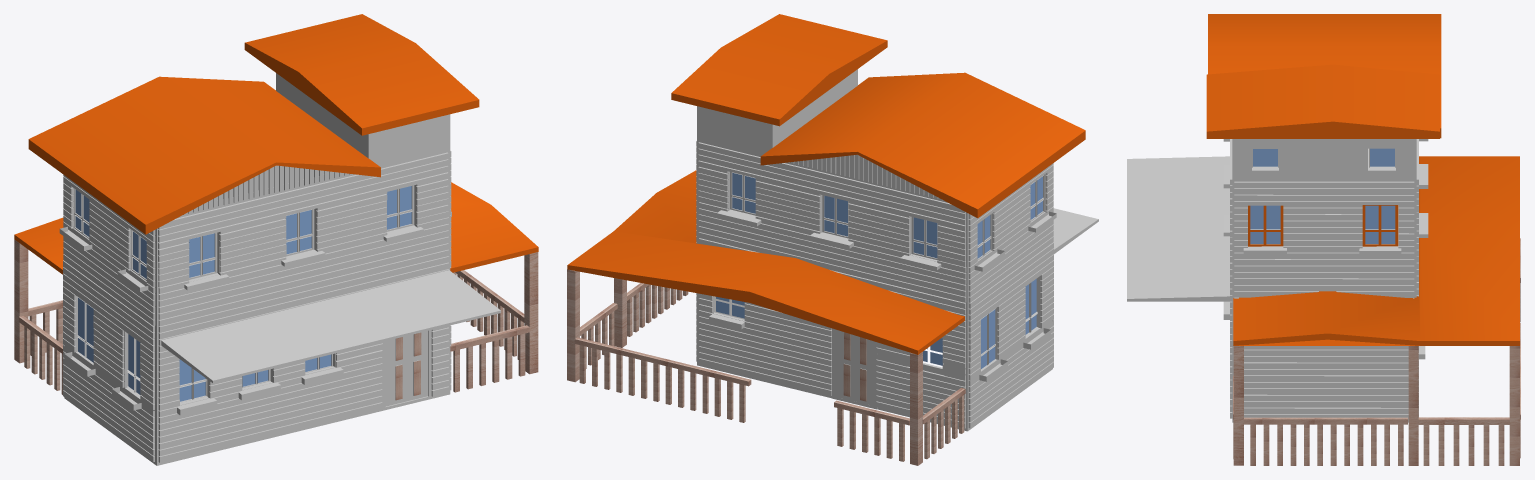
Rendered from low-poly-house-67-ground-clean.glb.
The picture shows the model from 3 angles, left to right: view 1: azimuth 30°, elevation 25°; view 2: azimuth 150°, elevation 25°; view 3: azimuth 270°, elevation 25°; orthographic projection. The views are drawn at different scales.
Parts seen in each view (by area): view 1: skfb_offset; view 2: skfb_offset; view 3: skfb_offset.
Part boxes in pixels (x1,y1,x2,y2): skfb_offset: (14,14,538,465); skfb_offset: (567,14,1098,465); skfb_offset: (1127,14,1520,465).
Bounding box in the file's own units: 11156 × 8129 × 9395.
4 materials, 1 textured.
